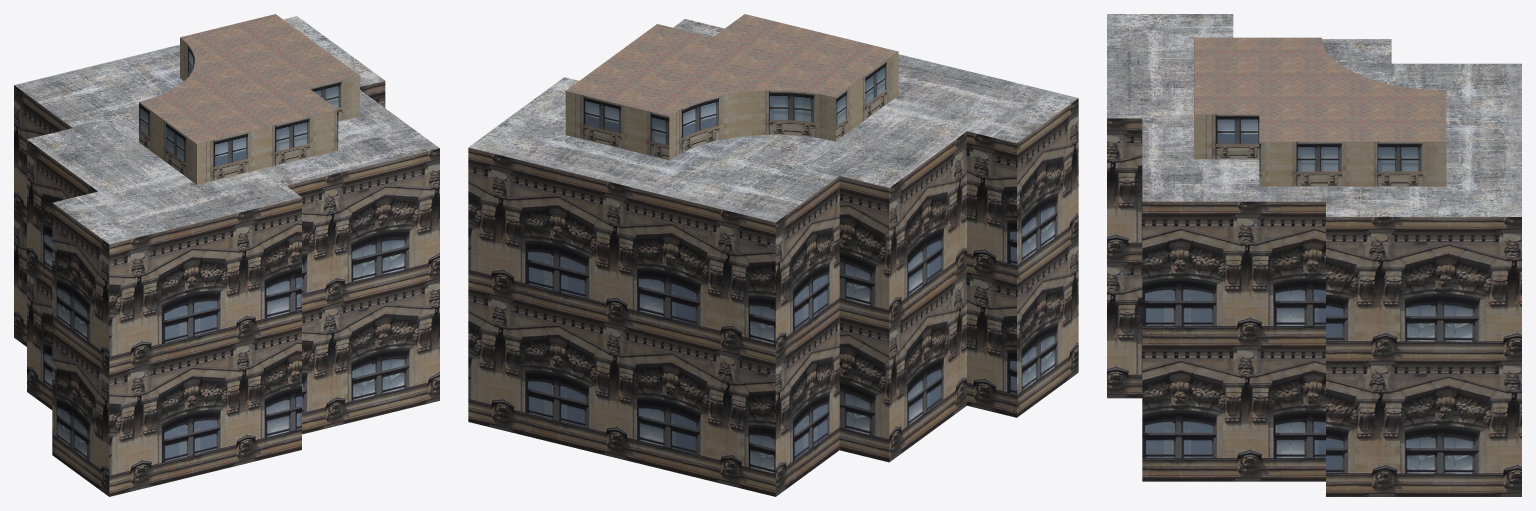
File: Building9.fbx
3 views of the same model, side by side, from view 1: azimuth 30°, elevation 25°; view 2: azimuth 150°, elevation 25°; view 3: azimuth 270°, elevation 25° (orthographic). The views are drawn at different scales.
Parts seen in each view (by area): view 1: Building8; view 2: Building8; view 3: Building8.
Part boxes in pixels (x1,y1,x2,y2): Building8: (14, 14, 439, 496); Building8: (468, 14, 1078, 496); Building8: (1107, 14, 1521, 496).
Size of the model in its own units: 220 by 165 by 190.
